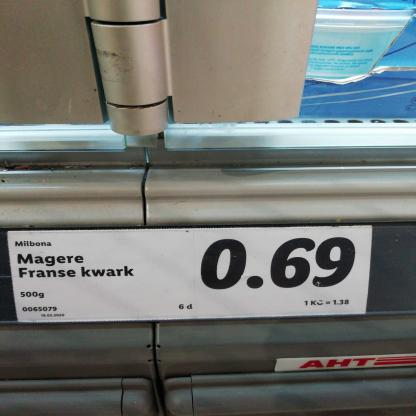prtg: (9, 226, 374, 323)
